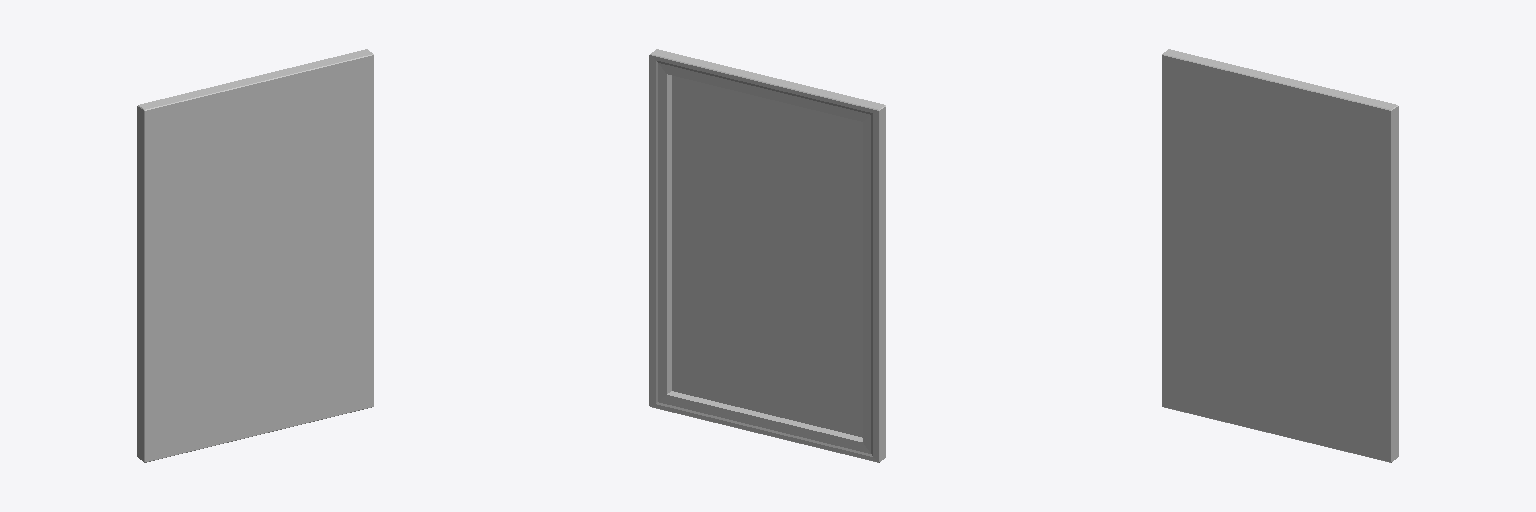
The model's file is canvas.obj.
3 views of the same model, side by side, from view 1: azimuth 30°, elevation 25°; view 2: azimuth 150°, elevation 25°; view 3: azimuth 330°, elevation 25° (orthographic).
Visible parts, largest first — view 1: Default; view 2: Default; view 3: Default.
Part boxes in pixels (x1,y1,x2,y2): Default: (137,49,373,462); Default: (649,49,885,462); Default: (1162,49,1398,462).
Size of the model in its own units: 53.38 by 78.2 by 3.